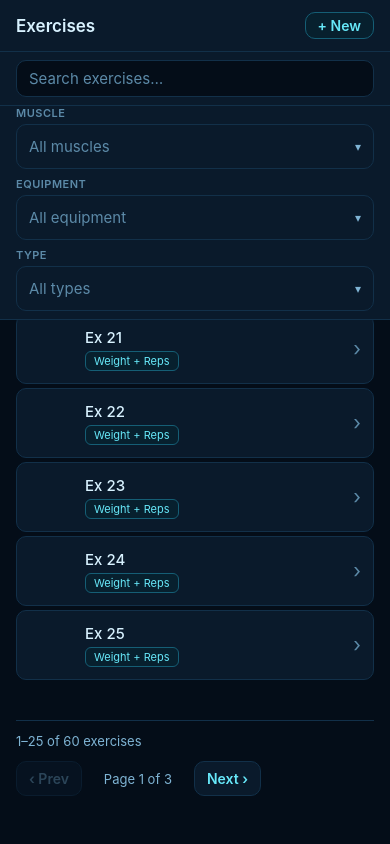
it: walks back to the previous page
(page scrolled)
Check: the text "Page 1 of 3" is shown, box [104,770,172,786]
Click the button with aria-label "Next page": [227, 778] box [194,761,261,796]
(page scrolled)
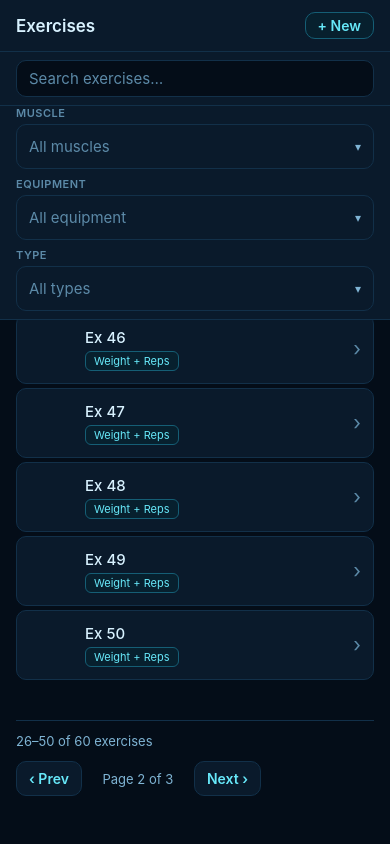
Check: the text "Page 2 of 3" is shown, box [102,770,173,786]
Click the button with aria-label "Previous page": [49, 778] box [16,761,82,796]
(page scrolled)
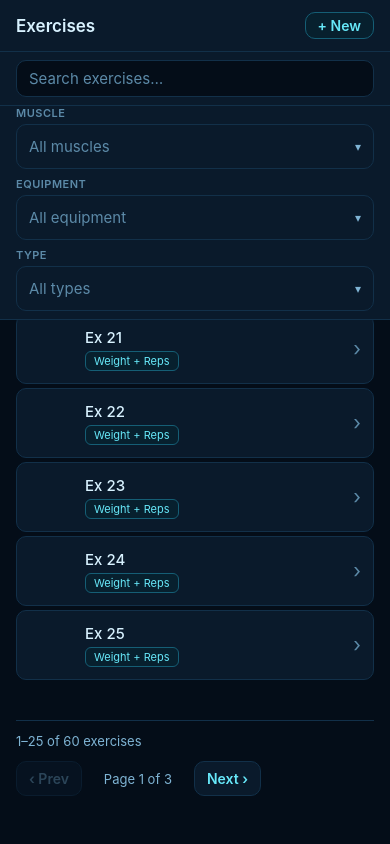
Check: the text "Page 1 of 3" is shown, box [104,770,172,786]
